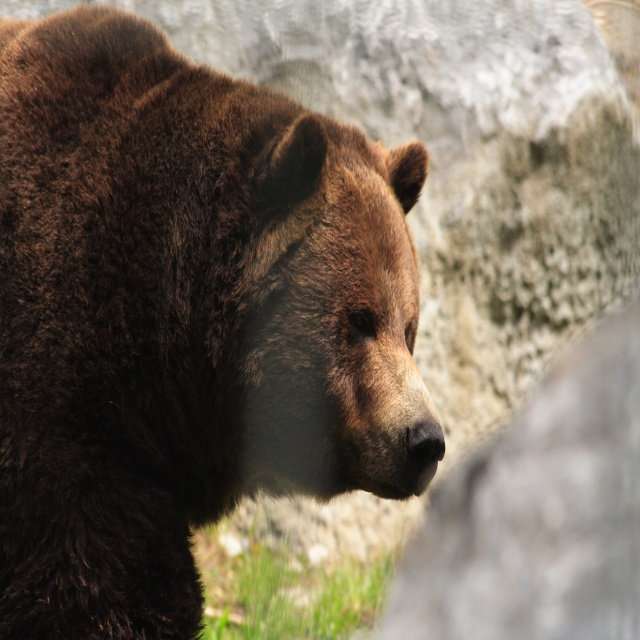Brown bear: (0, 0, 445, 639)
